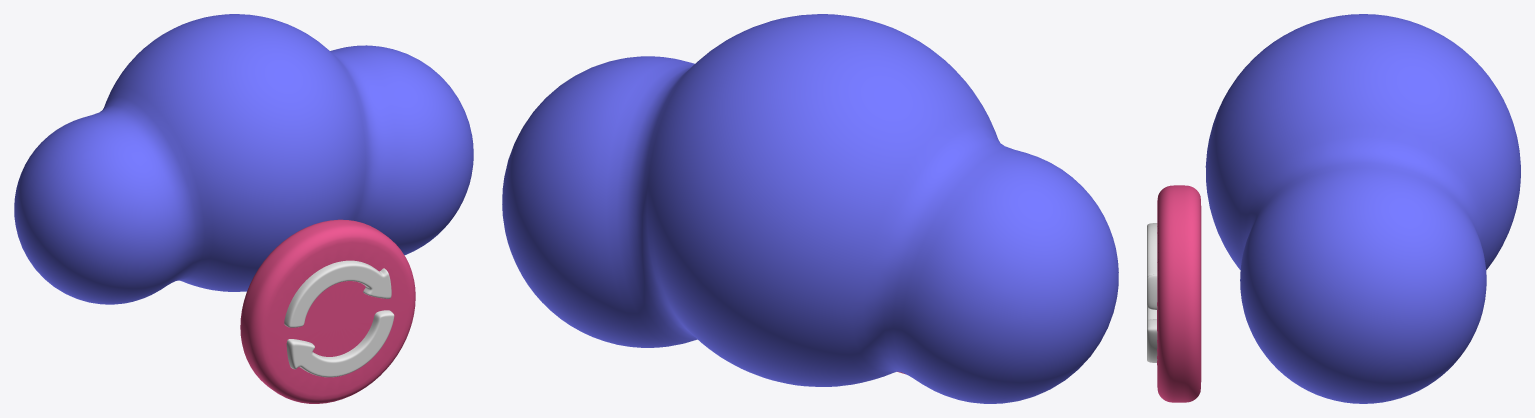
Rendered from syncing-animated-3d-icon-1158566076131.glb.
The picture shows the model from 3 angles, left to right: view 1: azimuth 30°, elevation 25°; view 2: azimuth 150°, elevation 25°; view 3: azimuth 270°, elevation 25°; orthographic projection. The views are drawn at different scales.
Parts seen in each view (by area): view 1: Cloud, Base, Syncing; view 2: Cloud; view 3: Cloud, Base, Syncing.
Boxes of the visible parts, x1,y1,x2,y2 form: Cloud: (14,14,473,304); Base: (240,219,415,403); Syncing: (284,260,394,377); Cloud: (502,14,1118,403); Cloud: (1205,14,1520,403); Base: (1157,185,1201,402); Syncing: (1147,223,1157,362).
Bounding box in the file's own units: 1.94 × 1.35 × 1.28.
